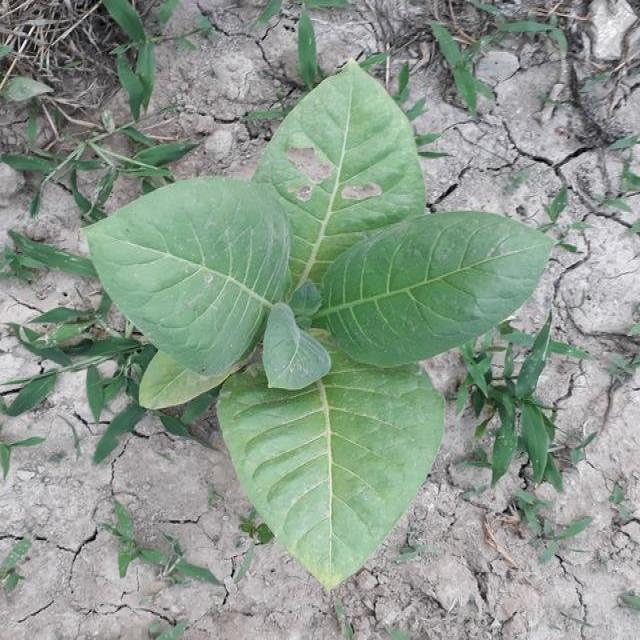crop: (87, 77, 558, 580)
